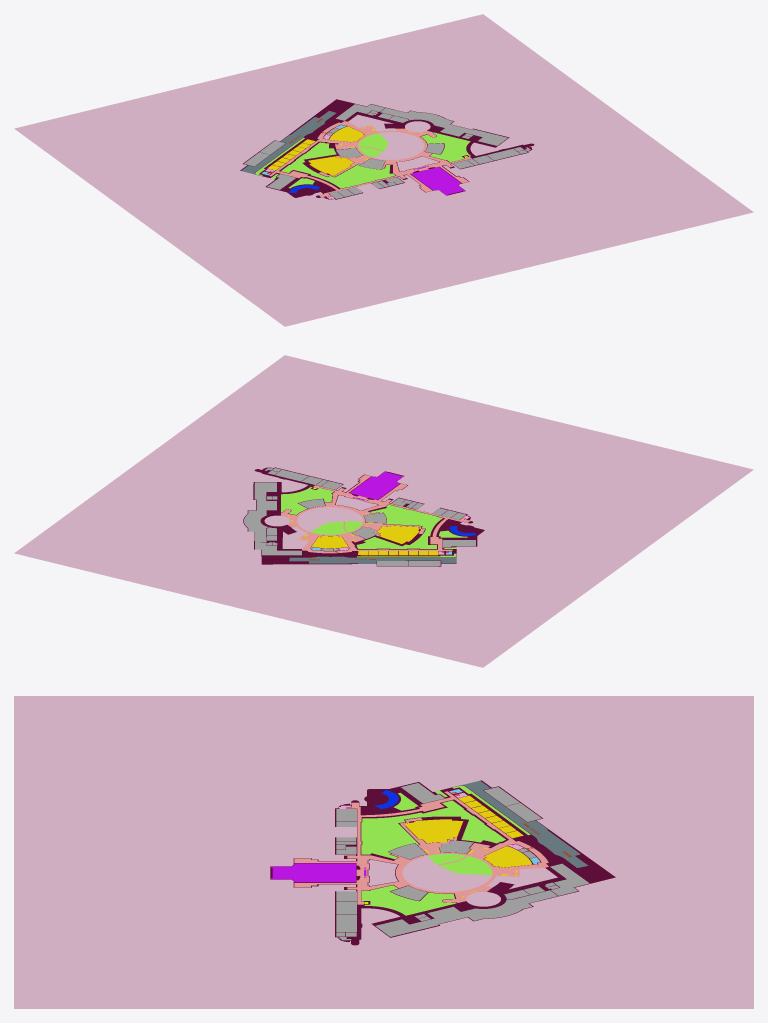
File: njc-l2-v5-30-4.glb
The picture shows the model from 3 angles, top to bottom: view 1: azimuth 30°, elevation 25°; view 2: azimuth 150°, elevation 25°; view 3: azimuth 270°, elevation 25°; orthographic projection. The views are drawn at different scales.
Parts seen in each view (by area): view 1: _(Loose Entity), G-Hall, G-LT5; view 2: _(Loose Entity), G-Hall, G-LT5; view 3: _(Loose Entity), G-Hall, G-LT5.
Part boxes in pixels (x1,y1,x2,y2): _(Loose Entity): [14, 14, 753, 326]; G-Hall: [411, 167, 464, 195]; G-LT5: [308, 156, 353, 175]; _(Loose Entity): [14, 355, 753, 667]; G-Hall: [349, 471, 403, 499]; G-LT5: [376, 525, 419, 543]; _(Loose Entity): [14, 696, 753, 1008]; G-Hall: [271, 863, 356, 882]; G-LT5: [404, 819, 463, 843].
Bounding box in the file's own units: 30 × 4.93e-16 × 30.
